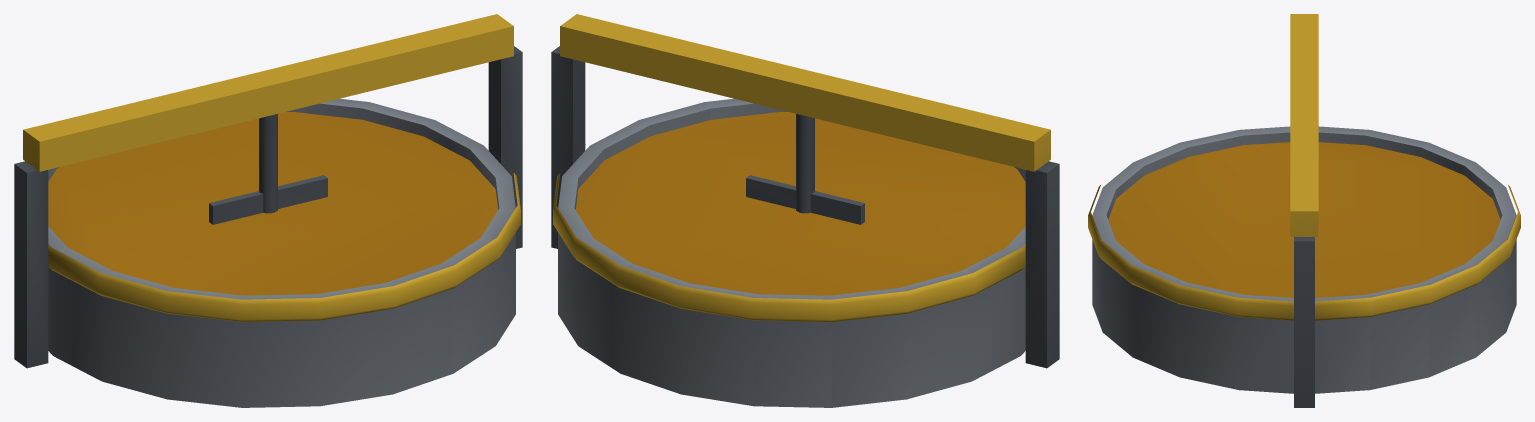
Rendered from prop.honey_vat.glb.
3 views of the same model, side by side, from view 1: azimuth 30°, elevation 25°; view 2: azimuth 150°, elevation 25°; view 3: azimuth 270°, elevation 25° (orthographic). The views are drawn at different scales.
Parts seen in each view (by area): view 1: honey_vat; view 2: honey_vat; view 3: honey_vat.
Part boxes in pixels (<box>): honey_vat: <box>14,14,522,407</box>; honey_vat: <box>551,14,1059,407</box>; honey_vat: <box>1088,14,1520,407</box>.
Size of the model in its own units: 6.9 by 3 by 6.12.
